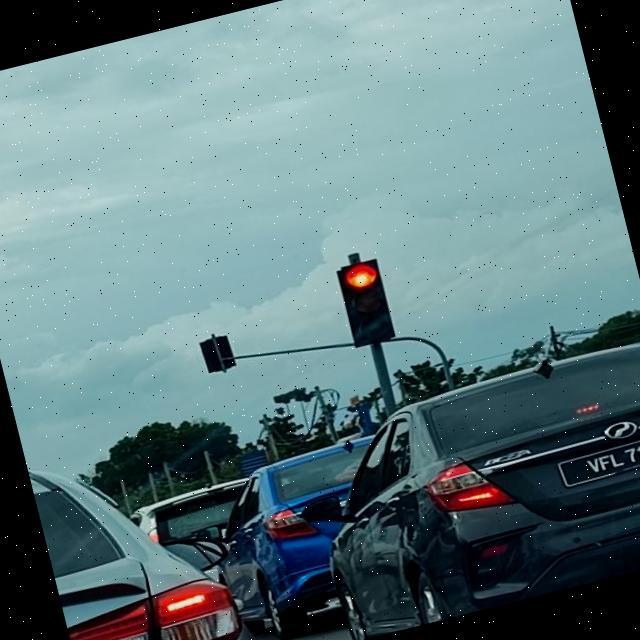red_light: (336, 259, 395, 347)
